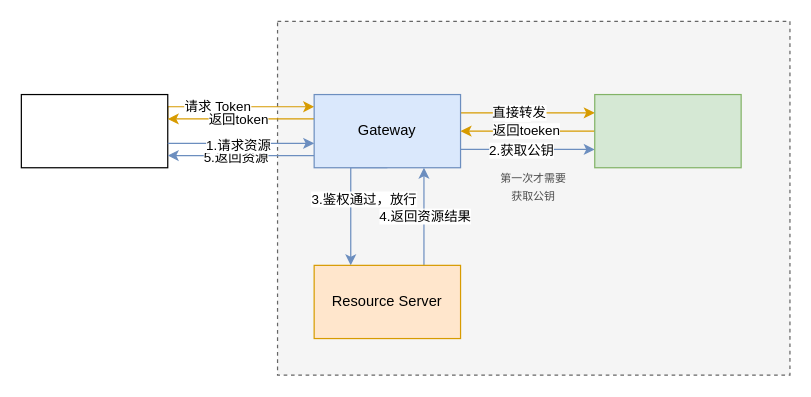
This 811x397 diagram has some shape labels left out. Each missing label, with the centre of its shape:
"Auth Server" goes at point 667,130.
"Client" goes at point 94,130.
